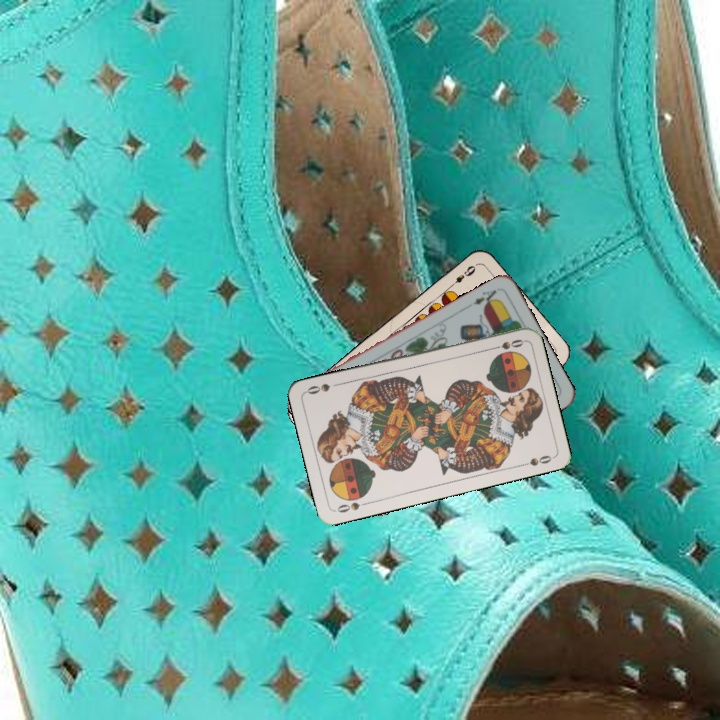E9: (445, 261, 479, 290)
EA: (465, 286, 501, 310)
SO: (486, 335, 526, 353), (332, 498, 372, 515)
